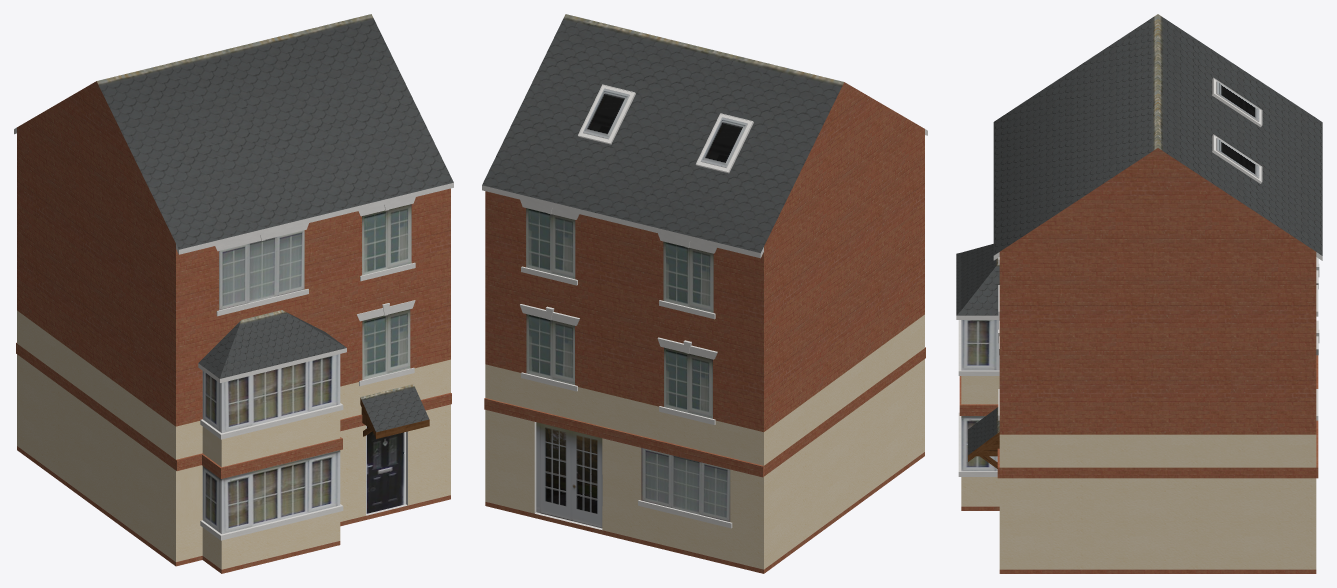
The model's file is modernterrace3story1cm.FBX.
The picture shows the model from 3 angles, left to right: view 1: azimuth 30°, elevation 25°; view 2: azimuth 150°, elevation 25°; view 3: azimuth 270°, elevation 25°; orthographic projection.
Parts seen in each view (by area): view 1: Box001; view 2: Box001; view 3: Box001.
Boxes of the visible parts, bbox=[...] form: Box001: bbox=[14, 14, 453, 573]; Box001: bbox=[482, 14, 927, 573]; Box001: bbox=[956, 14, 1322, 573].
Size of the model in its own units: 800 by 1188 by 925.
